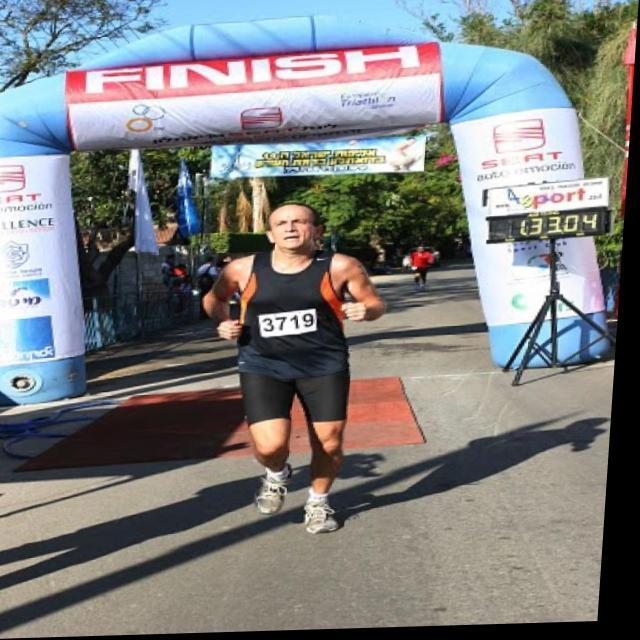dorsal: (253, 310, 332, 341)
